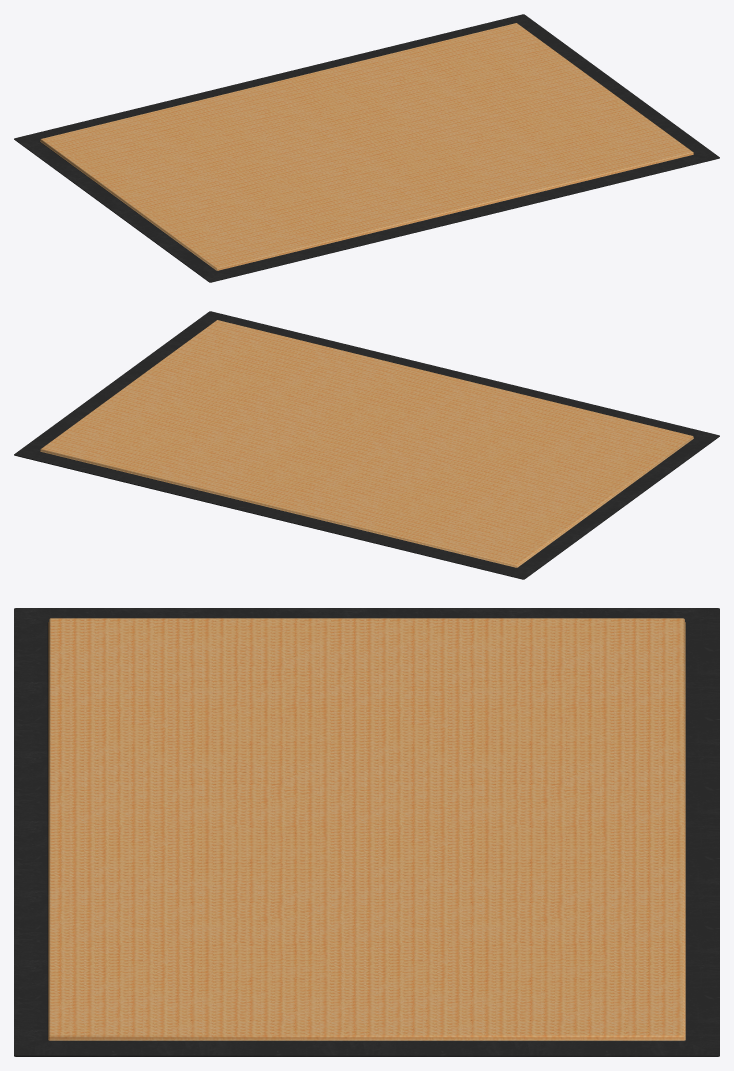
3 views of the same model, one above another, from view 1: azimuth 30°, elevation 25°; view 2: azimuth 150°, elevation 25°; view 3: azimuth 270°, elevation 25° (orthographic). The views are drawn at different scales.
Visible parts, largest first — view 1: Doormate; view 2: Doormate; view 3: Doormate.
Part boxes in pixels (x1=…): Doormate: x1=14, y1=14, x2=719, y2=282; Doormate: x1=14, y1=311, x2=719, y2=579; Doormate: x1=14, y1=608, x2=719, y2=1056.
Size of the model in its own units: 0.5994 by 0.00375 by 0.3994.
Materials: 1 (1 with a texture image).
